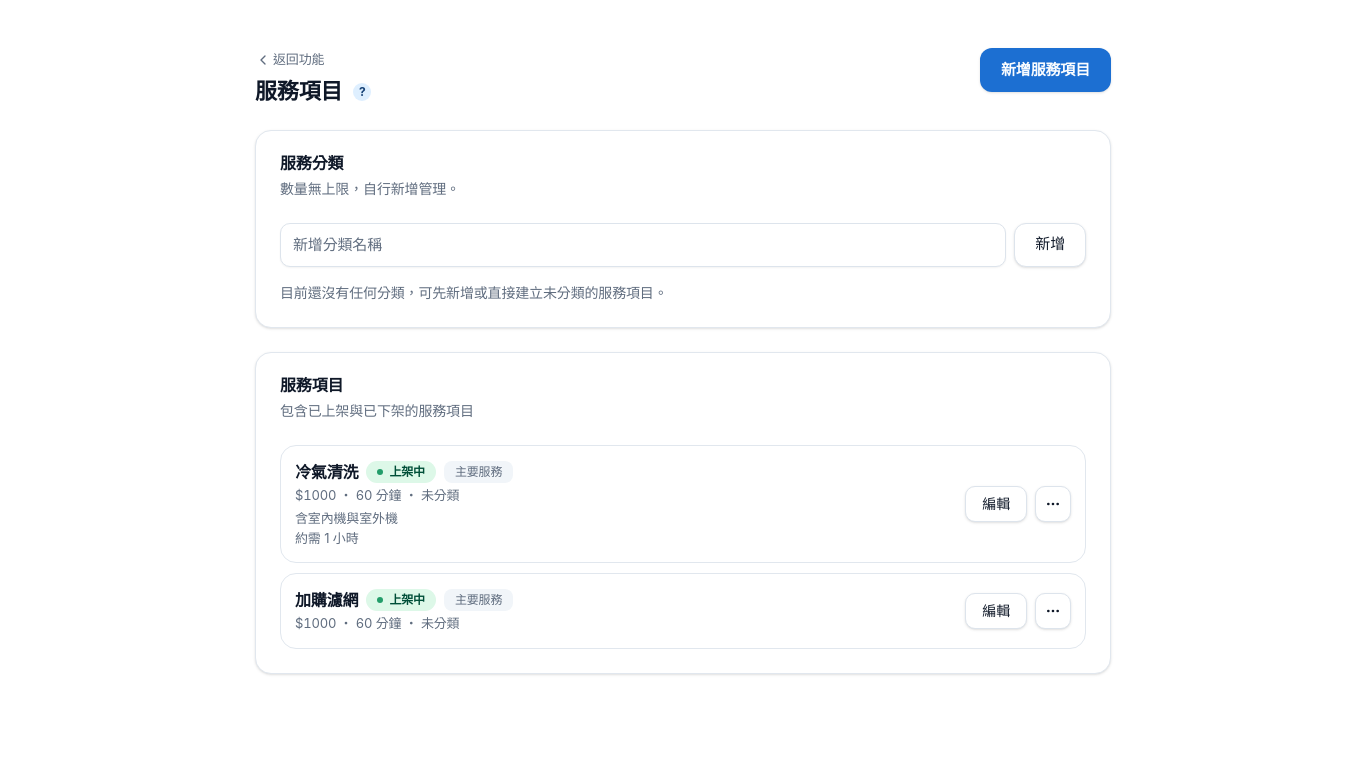
Test: 服務項目表單 × 填過資料才問放棄(第 11 批 J) › 編輯:打開不改 ⇒ Esc 直接關;改一個字 ⇒ Esc 先問「確定放棄這次輸入？」
Click the button "編輯" in the row of "含室內機與室外機 約需 1 小時" at coordinates (996, 504), box [965, 486, 1027, 522]
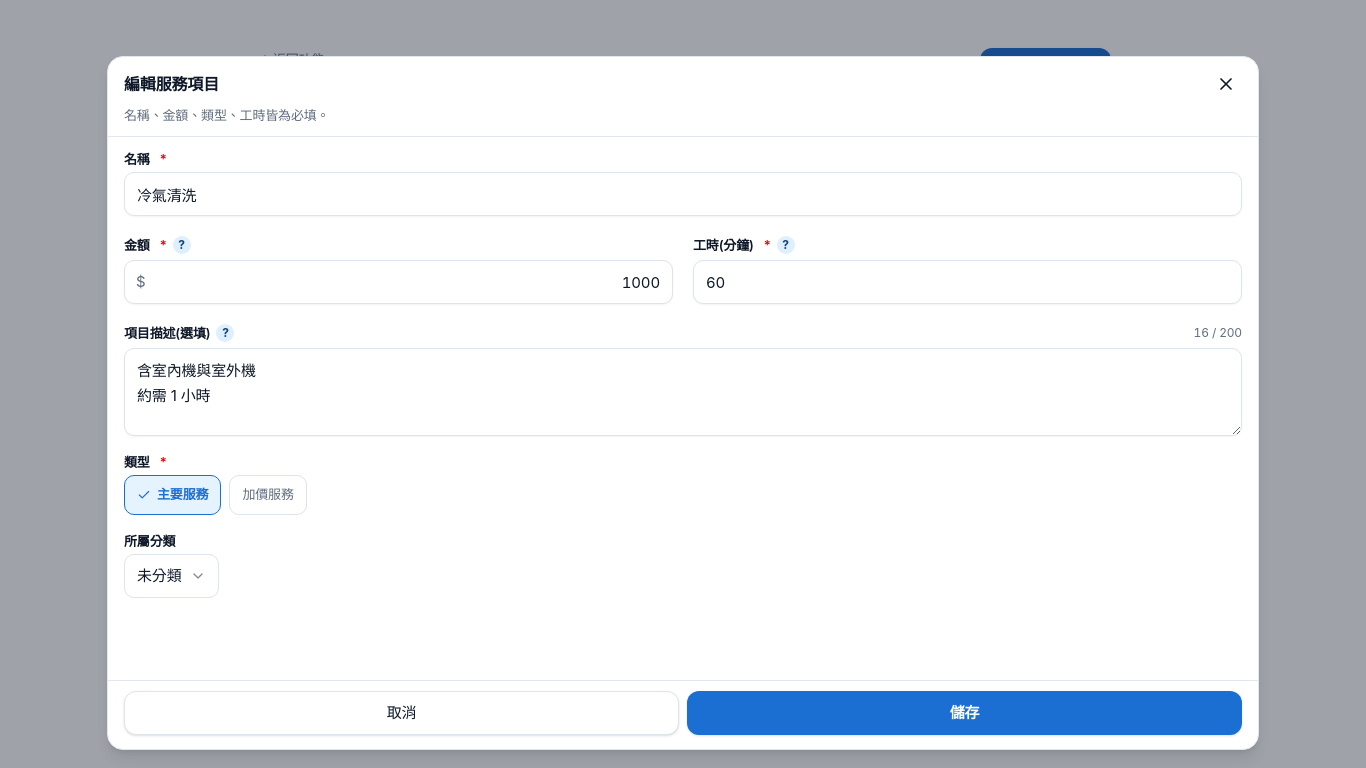
Press Escape in the dialog "編輯服務項目"
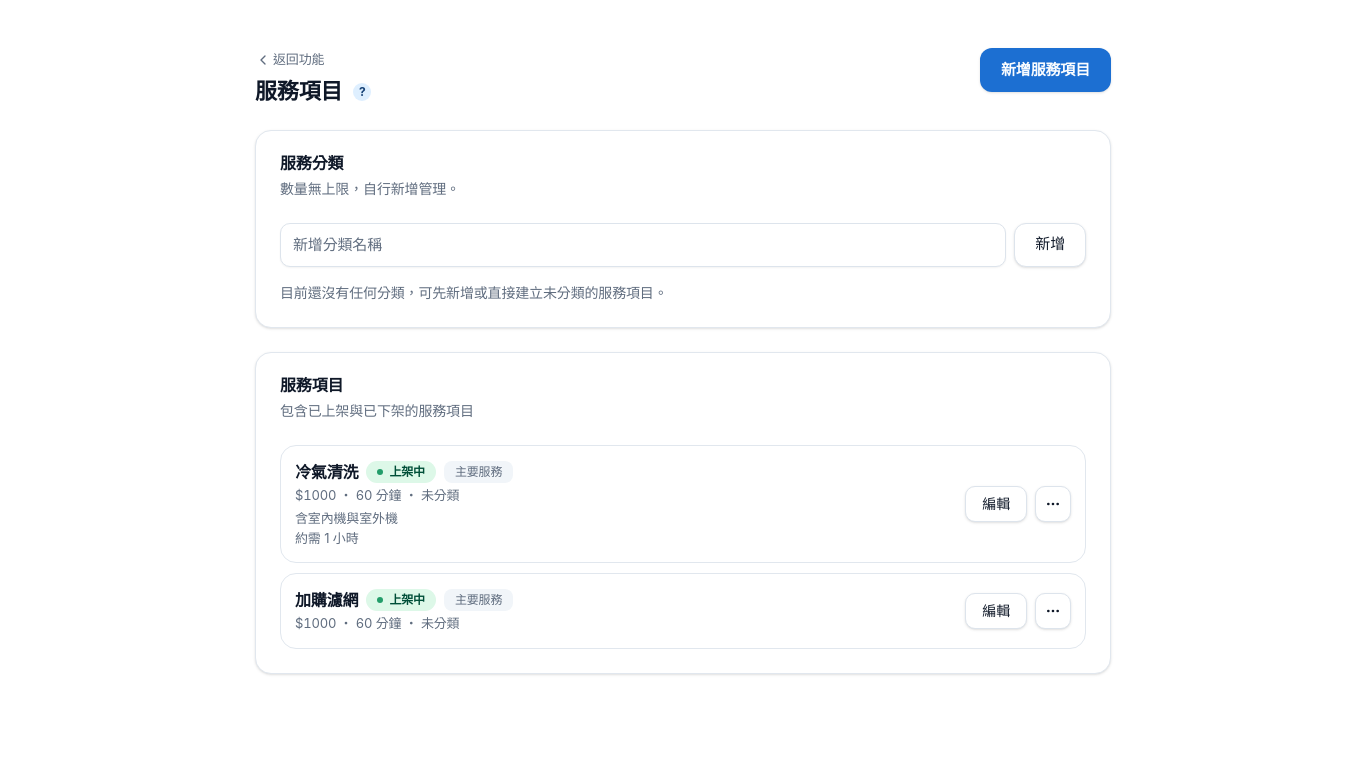
Expected: the text "確定放棄這次輸入？" is not shown
Result: the heading "編輯服務項目" is gone
Click the button "編輯" in the row of "含室內機與室外機 約需 1 小時" at coordinates (996, 504), box [965, 486, 1027, 522]
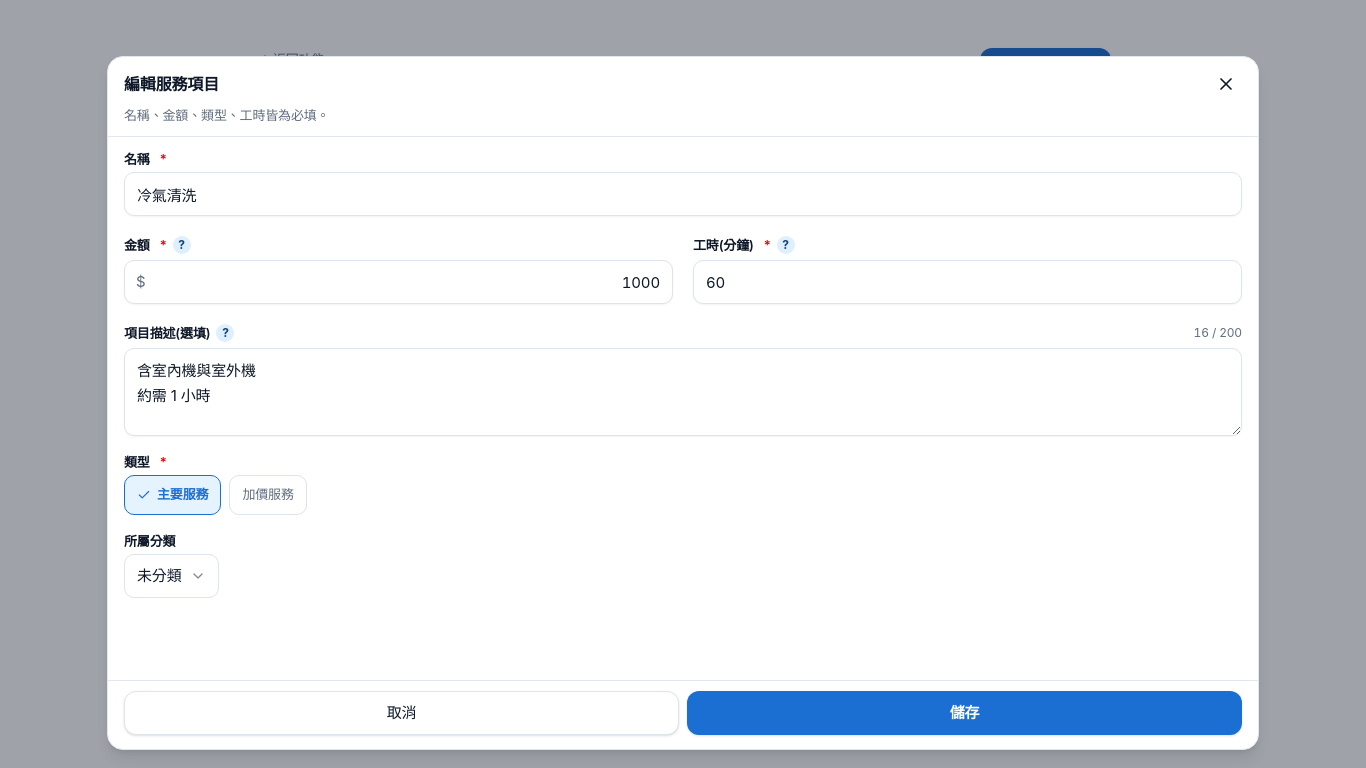
Replace the text in the field with id "item-name" with "冷氣清洗A" at coordinates (683, 194), box [124, 172, 1242, 216]
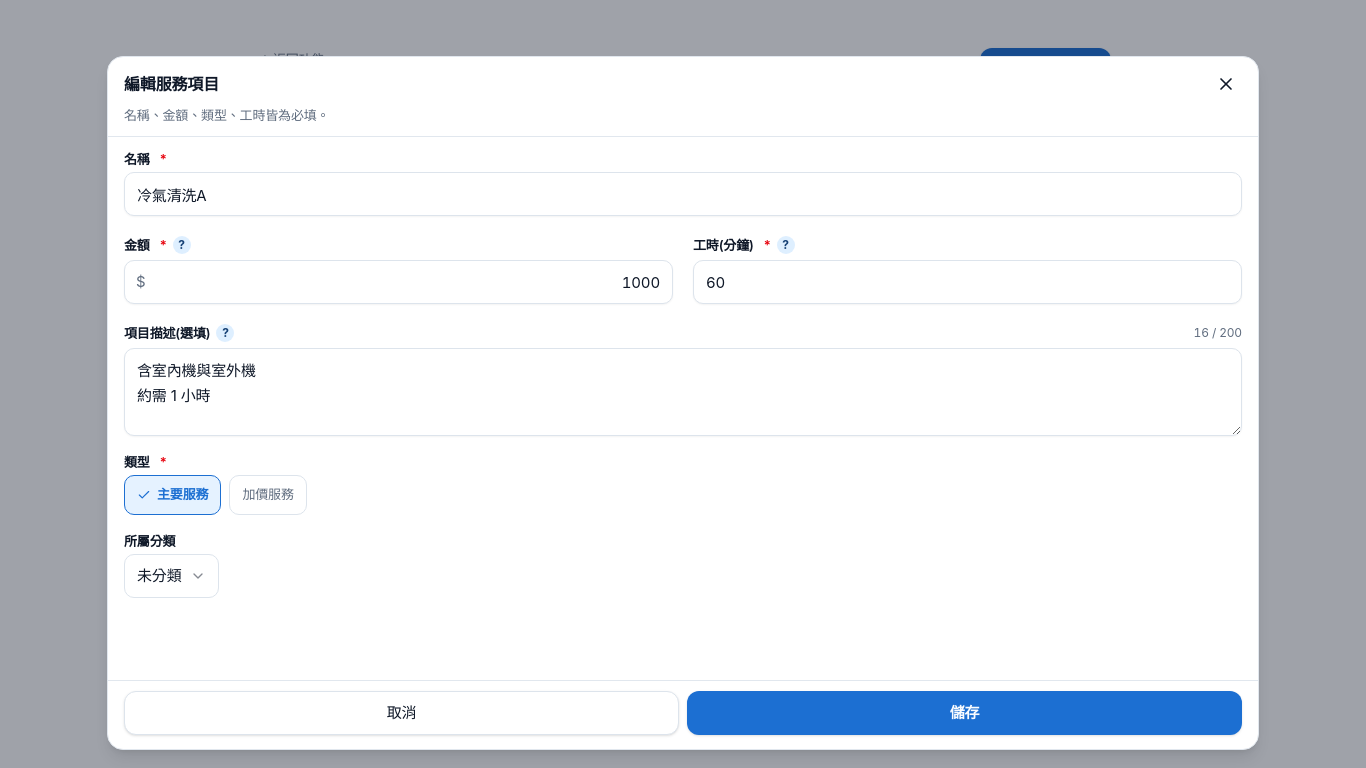
Press Escape in the dialog "編輯服務項目"
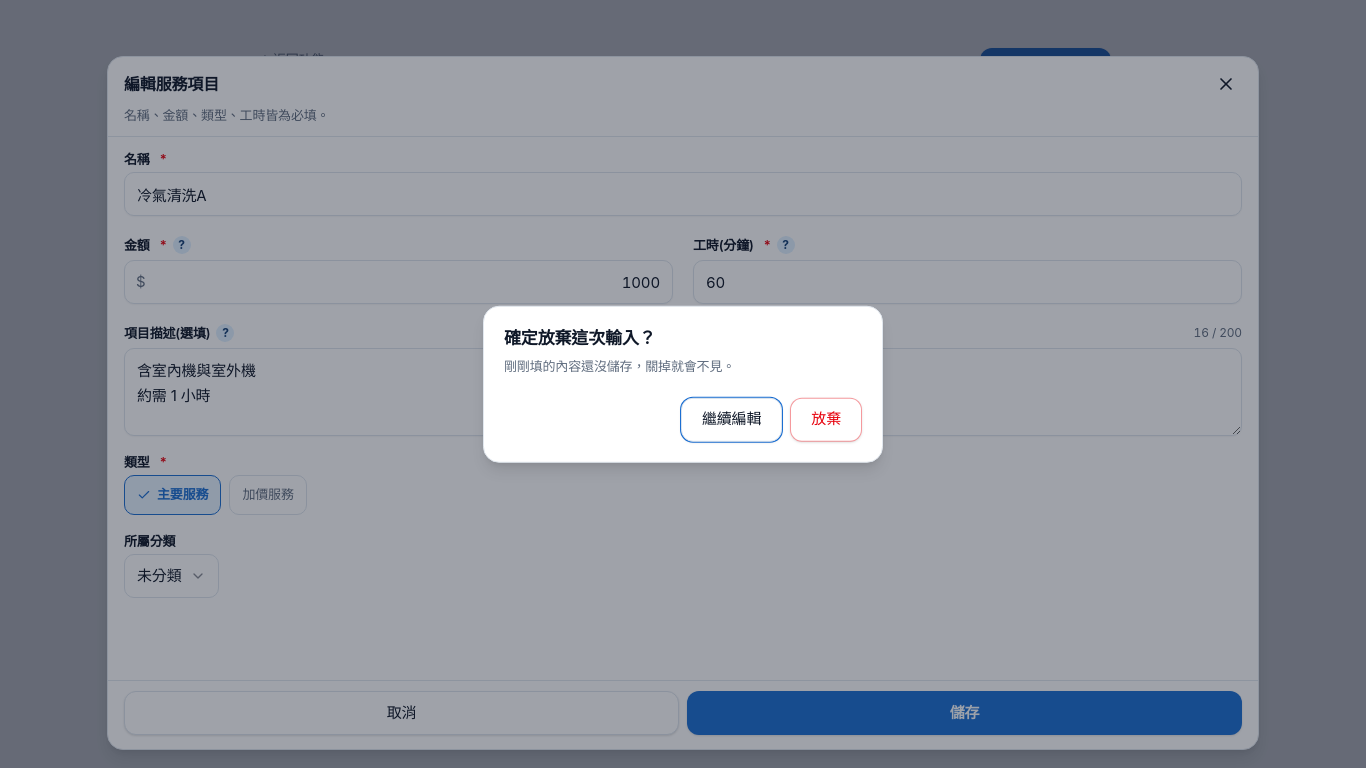
Result: the heading "確定放棄這次輸入？" is shown at [504, 328, 656, 348]
